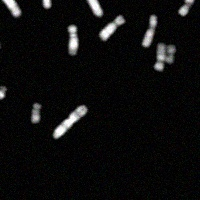chromosome: (53, 105, 88, 139), (99, 15, 125, 42), (142, 15, 157, 49), (77, 0, 102, 16), (67, 23, 79, 56), (0, 0, 22, 17), (154, 42, 165, 72), (177, 0, 196, 17), (30, 100, 41, 125), (165, 45, 178, 63), (42, 0, 61, 9), (0, 84, 7, 99), (0, 41, 2, 75)
